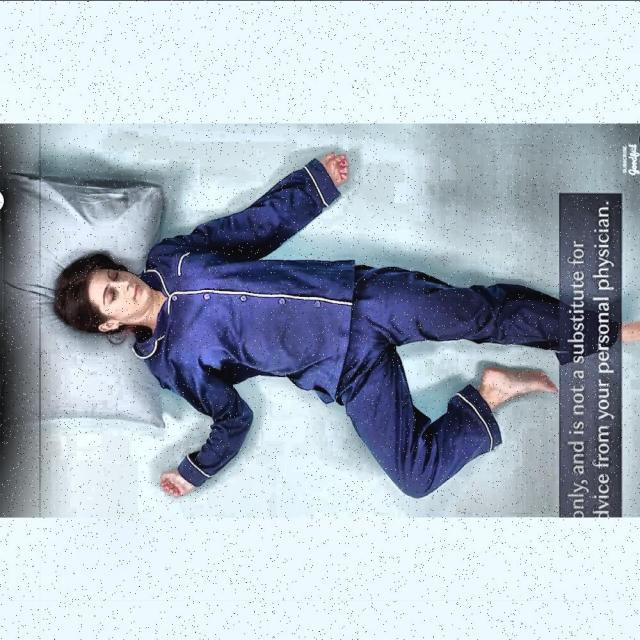Supine: (54, 154, 572, 498)
